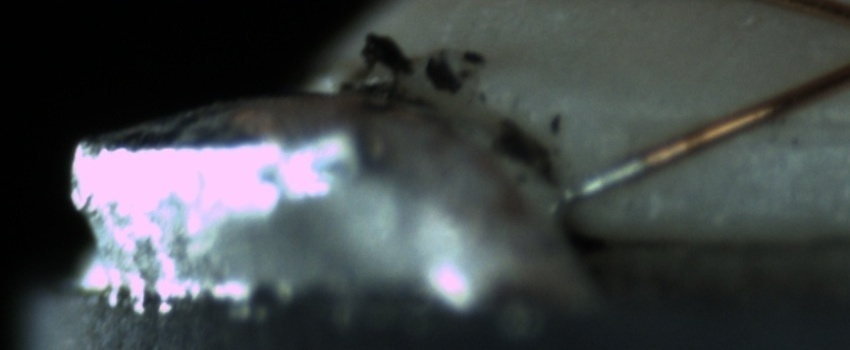DL: (686, 93, 849, 161)
TS: (564, 156, 647, 206)
